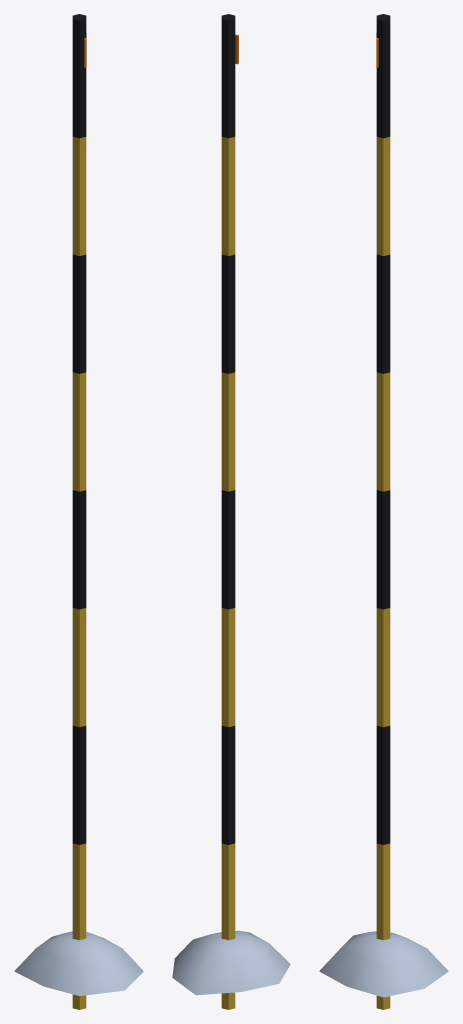
File: snow_pole_tall.glb
3 renders of one model, left to right at view 1: azimuth 90°, elevation 25°; view 2: azimuth 150°, elevation 25°; view 3: azimuth 270°, elevation 25°, orthographic.
Parts seen in each view (by area): view 1: Pole; view 2: Pole; view 3: Pole.
Boxes of the visible parts, left/top/right/bottom form: Pole: left=14, top=14, right=143, bottom=1009; Pole: left=172, top=14, right=290, bottom=1009; Pole: left=319, top=14, right=448, bottom=1009.
Size of the model in its own units: 0.4645 by 4.2 by 0.4998.
